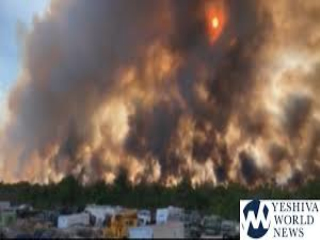smoke: (14, 8, 152, 182), (167, 56, 317, 187)
